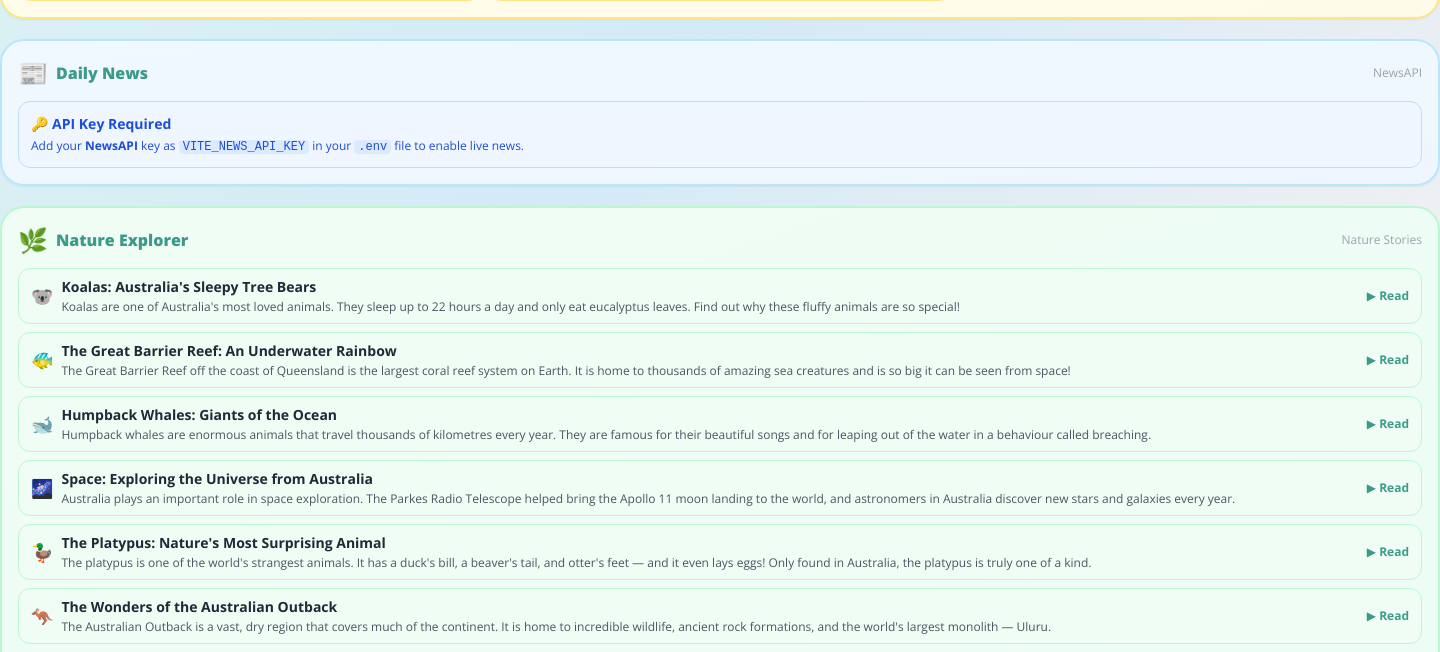
it: DiscoveryHub – NatureReadingView dictionary popover › popover can be closed with the close button
(page scrolled)
Click the button with aria-label "Read story: Koalas": coordinates (720, 296) [18,268,1422,324]
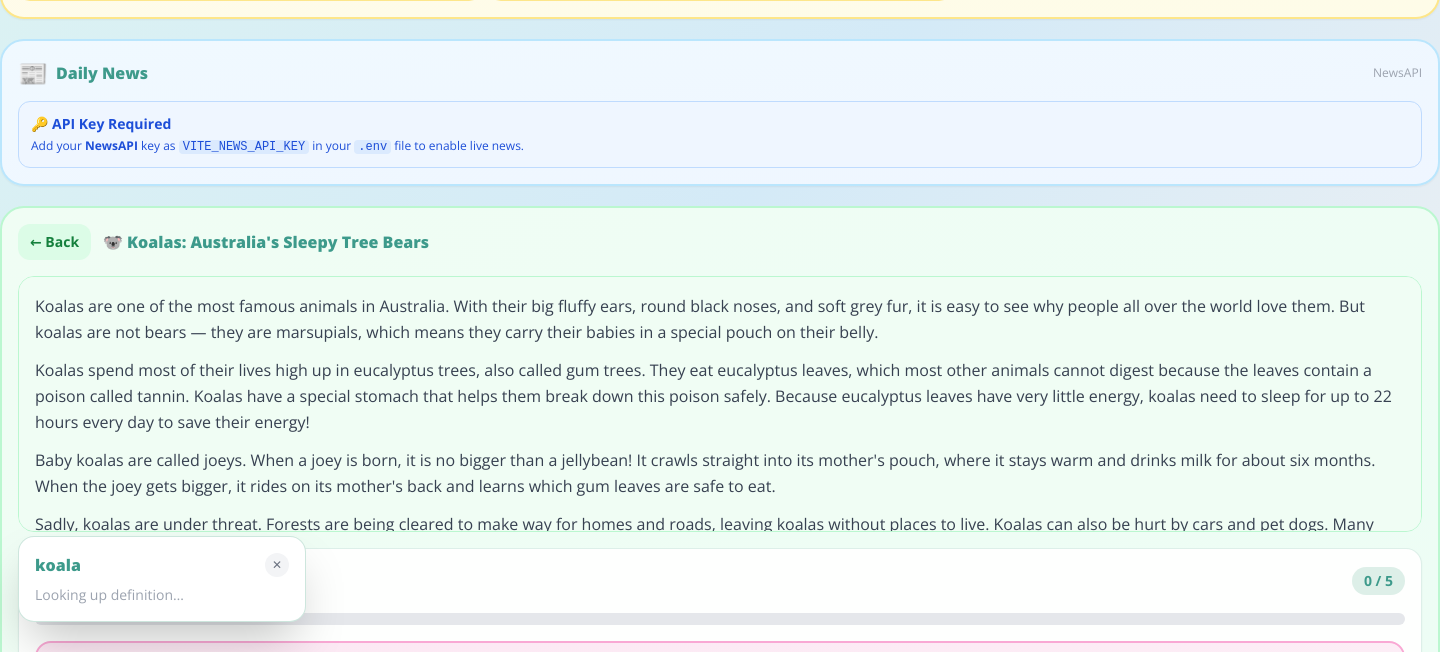
Expected: the dialog named "definition of koala" is shown, [18,536,306,622]
Click the button named "close definition": coordinates (277, 564) [265,552,289,576]
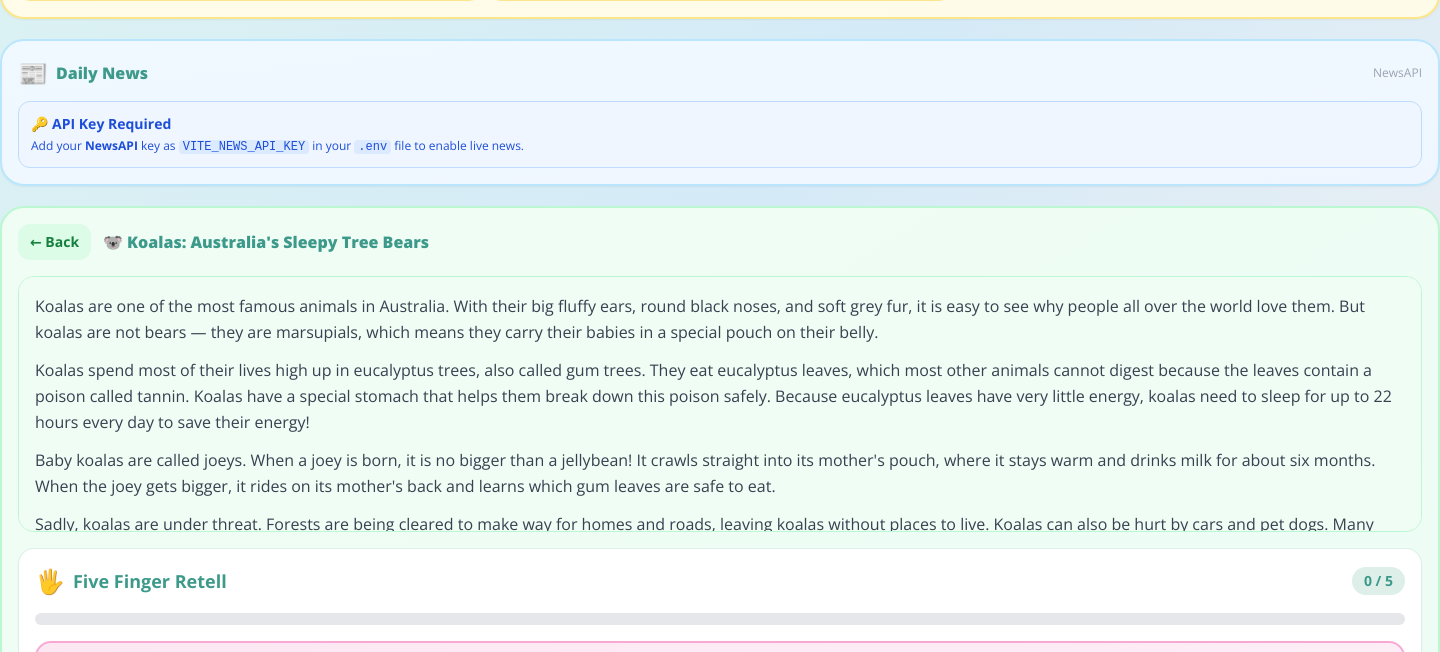
Expected: the dialog is gone
